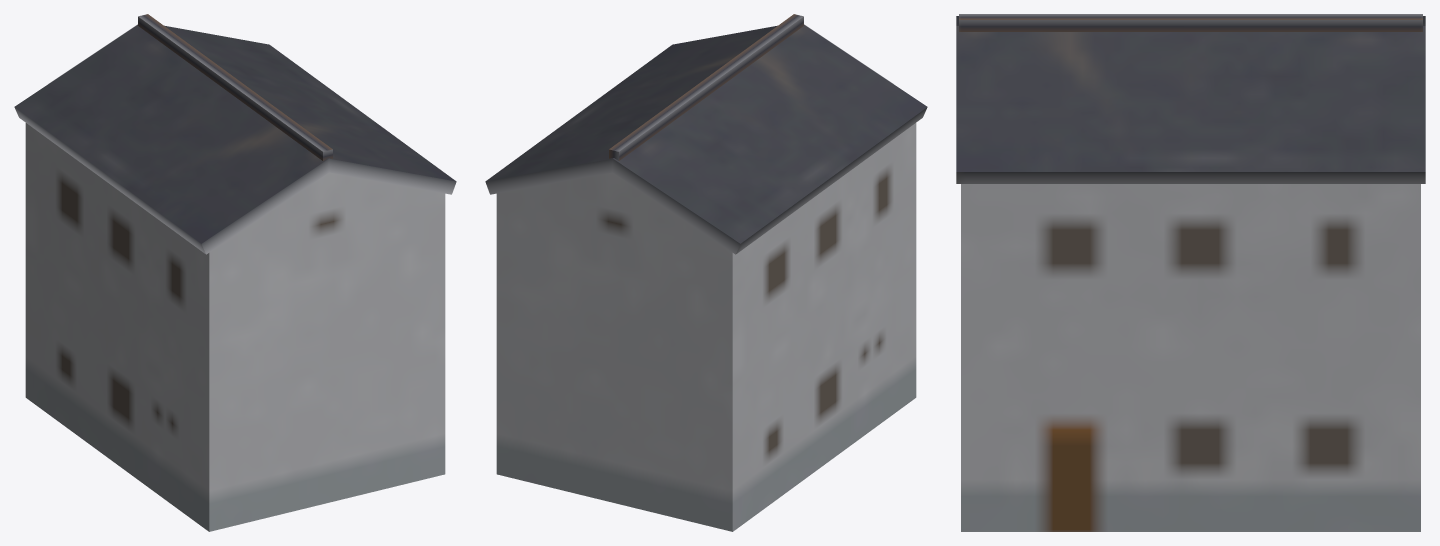
Rendered from Coach_Building_Residential_L2_03_Mod.fbx.
3 renders of one model, left to right at view 1: azimuth 30°, elevation 25°; view 2: azimuth 150°, elevation 25°; view 3: azimuth 270°, elevation 25°, orthographic. The views are drawn at different scales.
Parts seen in each view (by area): view 1: Coach_Building_Residential_L2_03_Mod; view 2: Coach_Building_Residential_L2_03_Mod; view 3: Coach_Building_Residential_L2_03_Mod.
Boxes of the visible parts, <box> form: Coach_Building_Residential_L2_03_Mod: <box>14,14,456,531</box>; Coach_Building_Residential_L2_03_Mod: <box>485,14,927,531</box>; Coach_Building_Residential_L2_03_Mod: <box>956,14,1425,531</box>.
Bounding box in the file's own units: 619 × 818 × 786.
